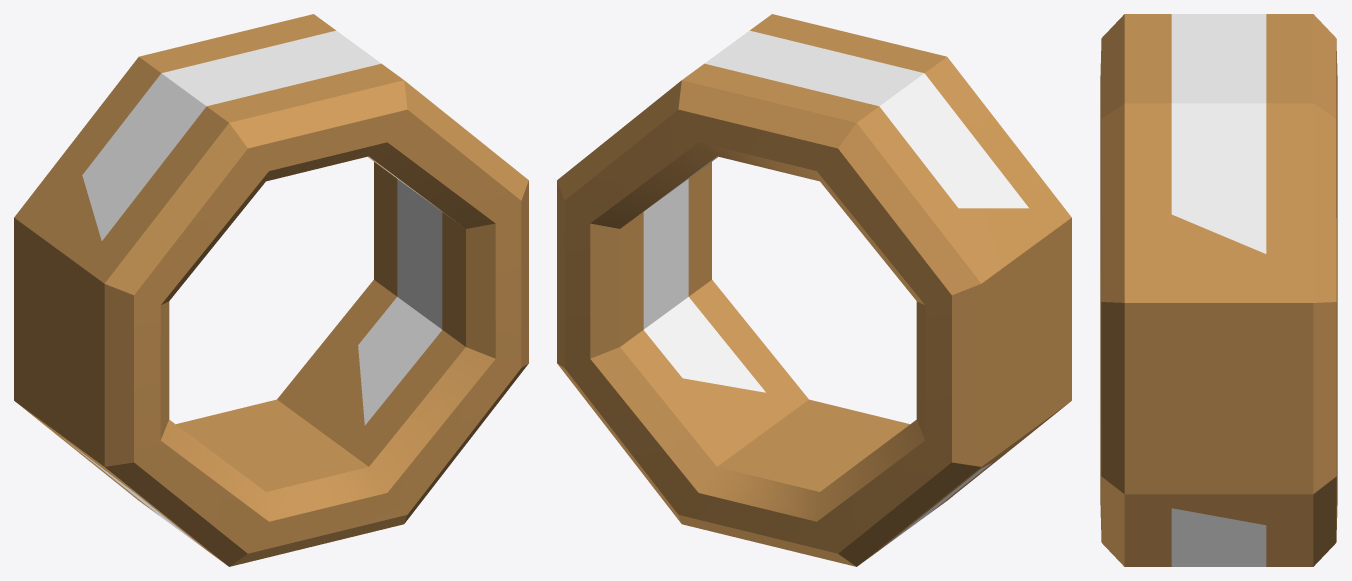
The model's file is kingdom_SM_Item_Ring_01.gltf.
3 views of the same model, side by side, from view 1: azimuth 30°, elevation 25°; view 2: azimuth 150°, elevation 25°; view 3: azimuth 270°, elevation 25° (orthographic). The views are drawn at different scales.
Parts seen in each view (by area): view 1: SM_Item_Ring_01; view 2: SM_Item_Ring_01; view 3: SM_Item_Ring_01.
Part boxes in pixels (<box>): SM_Item_Ring_01: <box>14,14,528,566</box>; SM_Item_Ring_01: <box>557,14,1071,566</box>; SM_Item_Ring_01: <box>1100,14,1337,566</box>.
Bounding box in the file's own units: 0.0555 × 0.0555 × 0.0257.
Materials: 1 (1 with a texture image).
